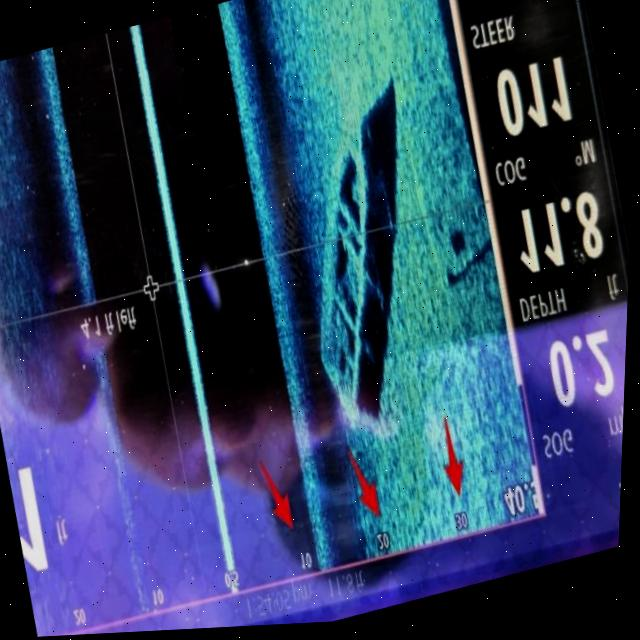shipwreck: (270, 118, 424, 433)
